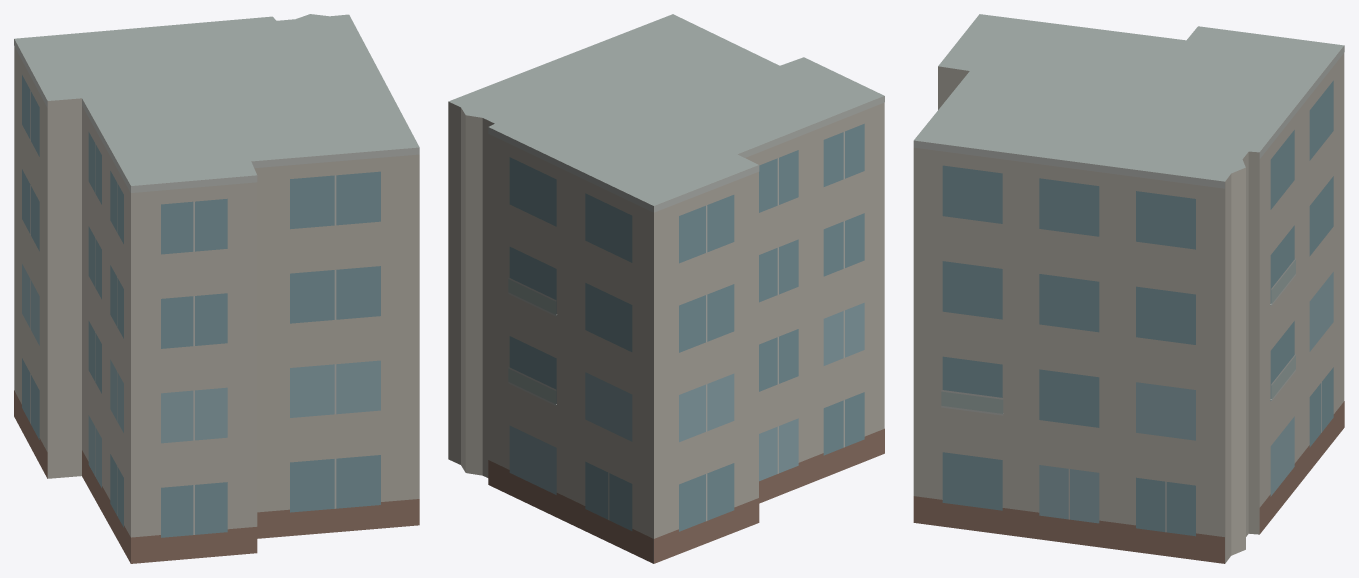
The model's file is survey-upis-32954758.glb.
3 renders of one model, left to right at view 1: azimuth 30°, elevation 25°; view 2: azimuth 150°, elevation 25°; view 3: azimuth 270°, elevation 25°, orthographic. The views are drawn at different scales.
Visible parts, largest first — view 1: survey-upis-32954758.tmp; view 2: survey-upis-32954758.tmp; view 3: survey-upis-32954758.tmp.
Boxes of the visible parts, bbox=[...] form: survey-upis-32954758.tmp: bbox=[14, 14, 419, 563]; survey-upis-32954758.tmp: bbox=[448, 14, 884, 563]; survey-upis-32954758.tmp: bbox=[913, 14, 1344, 563].
Bounding box in the file's own units: 12.33 × 13.1 × 13.39.
